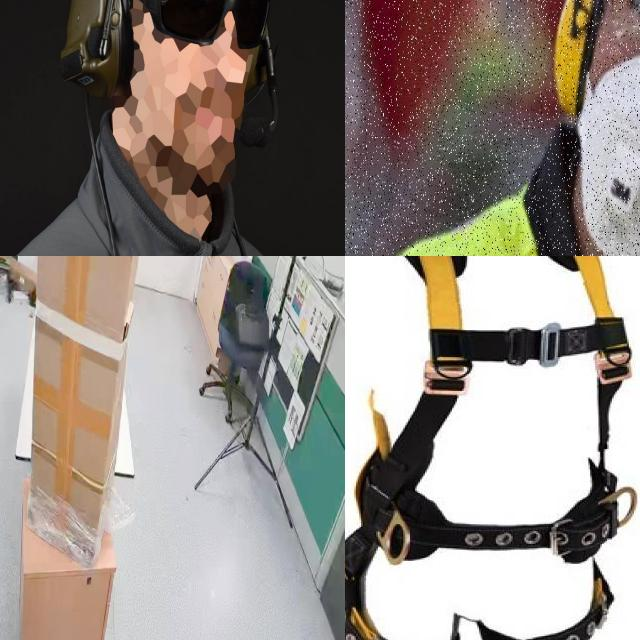Ear-protection: (61, 0, 291, 188), (552, 0, 613, 108)
Harness: (345, 256, 636, 640), (527, 564, 614, 640)
